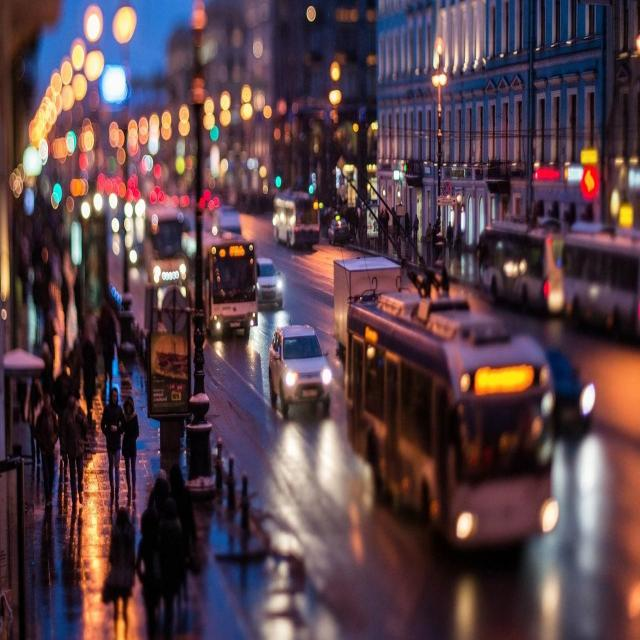bus: (344, 281, 561, 559), (183, 231, 260, 347), (561, 231, 640, 344), (479, 219, 563, 312), (273, 191, 322, 254)
